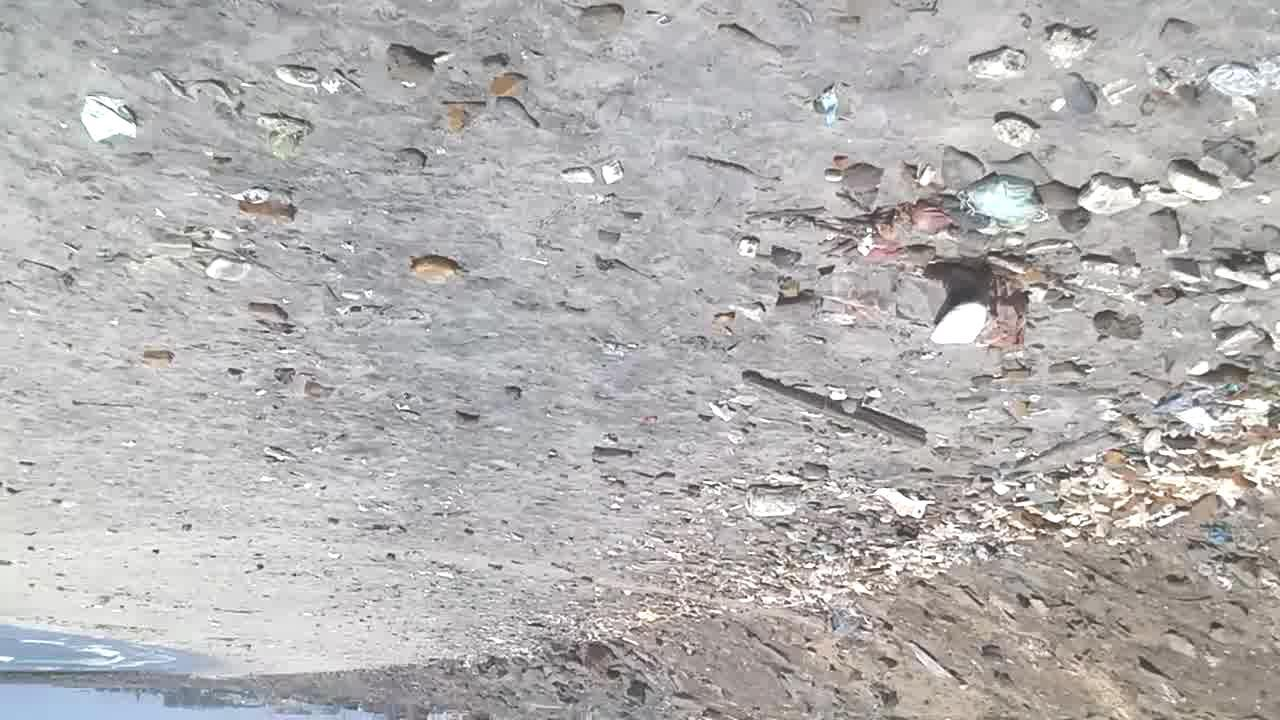large collection of objects: (558, 323, 1279, 642), (1081, 172, 1143, 216), (255, 115, 315, 156), (381, 42, 434, 88), (1174, 160, 1228, 205), (743, 487, 800, 515)
obj: (738, 364, 926, 450), (754, 202, 957, 268), (824, 264, 944, 324), (944, 178, 1038, 234), (930, 266, 996, 344), (150, 70, 242, 120), (1206, 57, 1272, 110), (979, 274, 1024, 351), (80, 94, 136, 140), (962, 42, 1026, 80), (1040, 24, 1092, 70), (984, 114, 1041, 146), (413, 252, 461, 288), (560, 160, 626, 186), (236, 198, 296, 225), (911, 204, 950, 235), (208, 258, 250, 284), (488, 72, 528, 98), (584, 450, 634, 470), (248, 304, 286, 330), (144, 347, 172, 369)
sand/background: (1, 393, 1279, 719)
